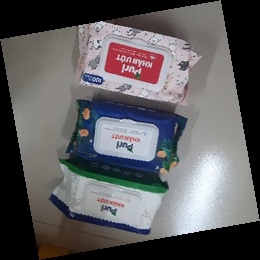Puri Trang: (48, 157, 170, 238)
Puri Xanh: (66, 97, 188, 176)
Puri hong: (77, 20, 202, 107)
